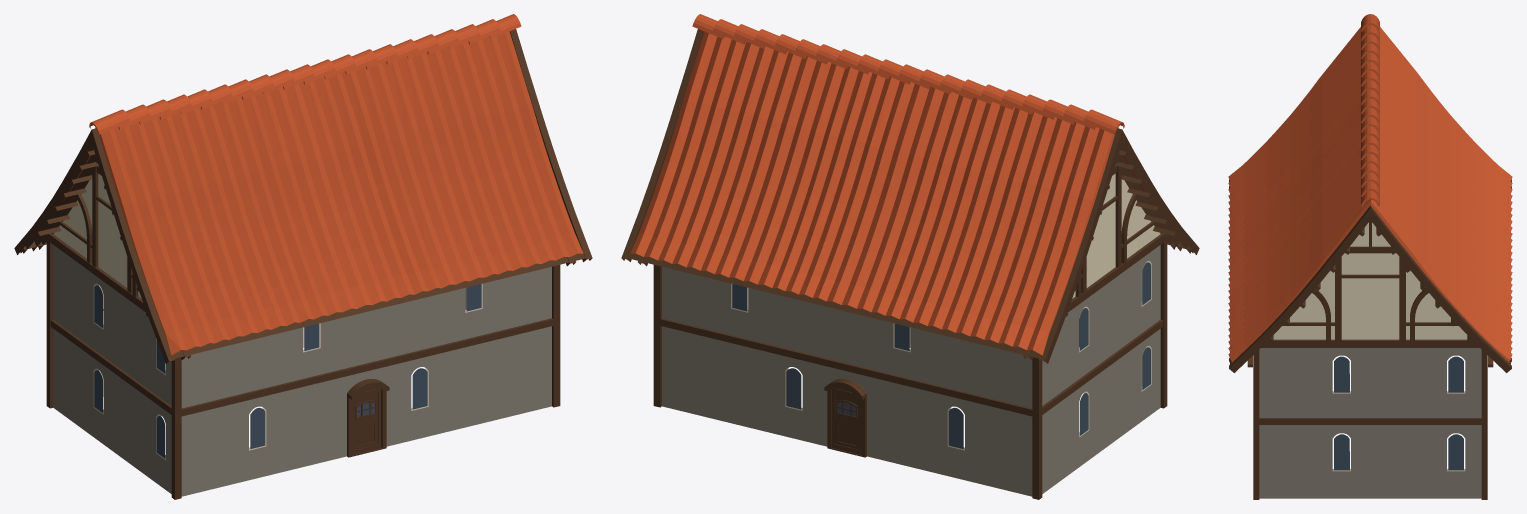
Rendered from tithe_barn.obj.
3 views of the same model, side by side, from view 1: azimuth 30°, elevation 25°; view 2: azimuth 150°, elevation 25°; view 3: azimuth 270°, elevation 25° (orthographic). The views are drawn at different scales.
Bounding box in the file's own units: 15.71 × 12.01 × 9.95.
